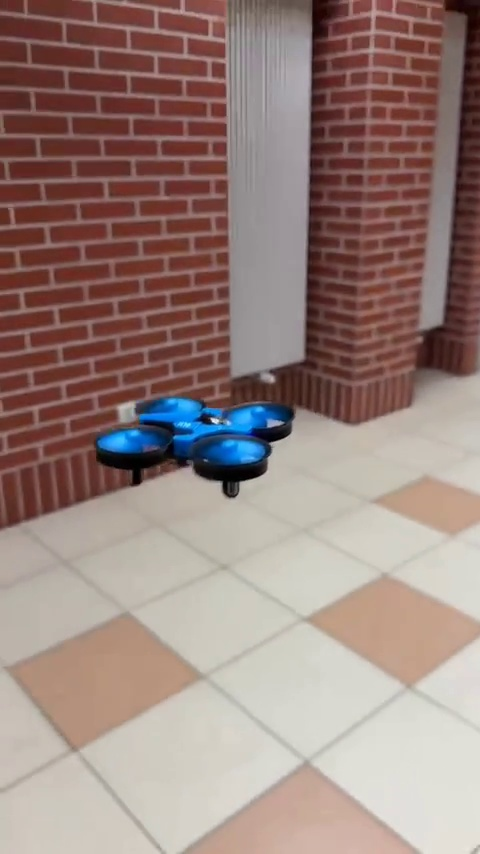drone: (93, 396, 298, 491)
